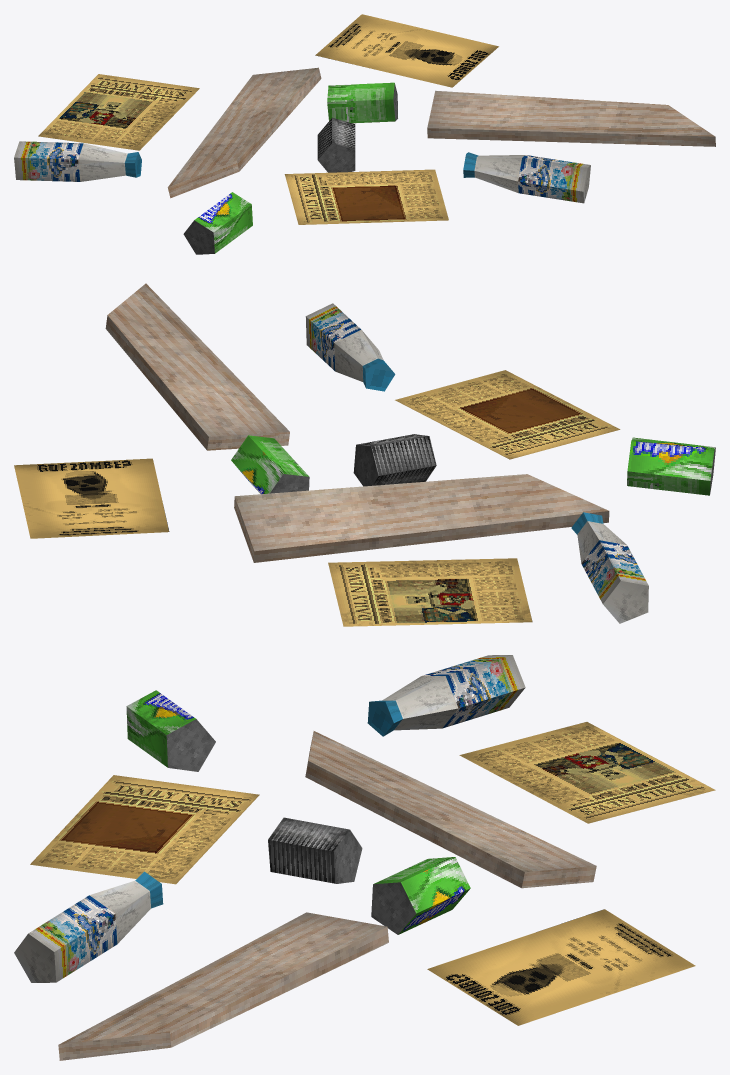
Rendered from garbage_stack_2.glb.
3 renders of one model, top to bottom at view 1: azimuth 30°, elevation 25°; view 2: azimuth 150°, elevation 25°; view 3: azimuth 270°, elevation 25°, orthographic. The views are drawn at different scales.
Visible parts, largest first — view 1: Plane; view 2: Plane; view 3: Plane.
Boxes of the visible parts, x1,y1,x2,y2 form: Plane: (14, 14, 715, 254); Plane: (14, 283, 715, 626); Plane: (14, 655, 715, 1060).
Size of the model in its own units: 3.78 by 0.2682 by 2.91.
1 material, 1 textured.
